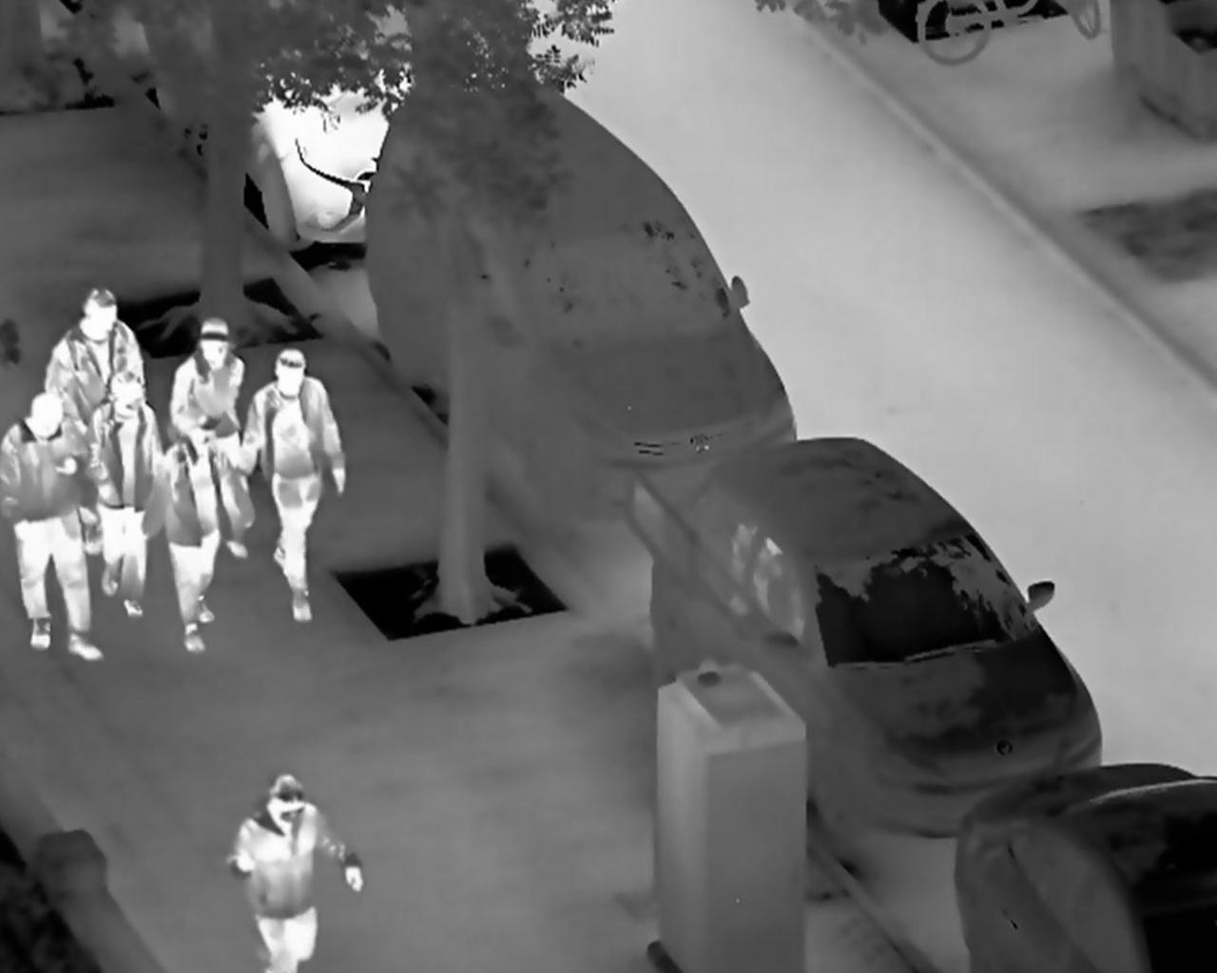person: (236, 349, 349, 627), (227, 772, 364, 973), (142, 410, 236, 656), (167, 317, 259, 565), (84, 371, 166, 620), (39, 287, 149, 455)
